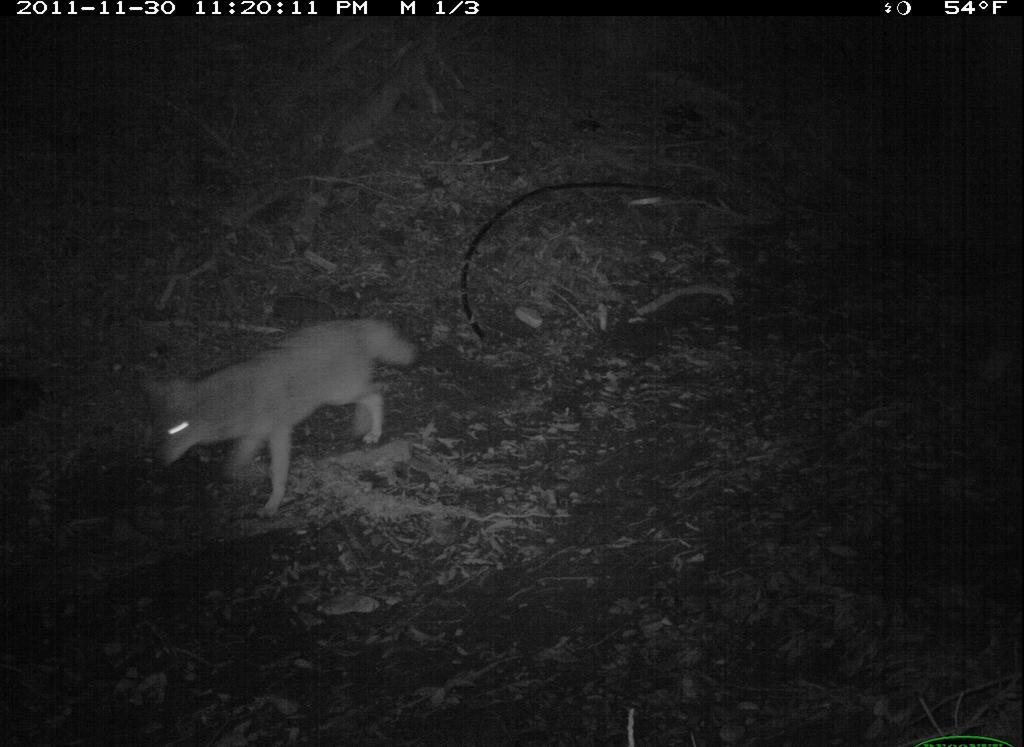coyote: (139, 313, 441, 530)
